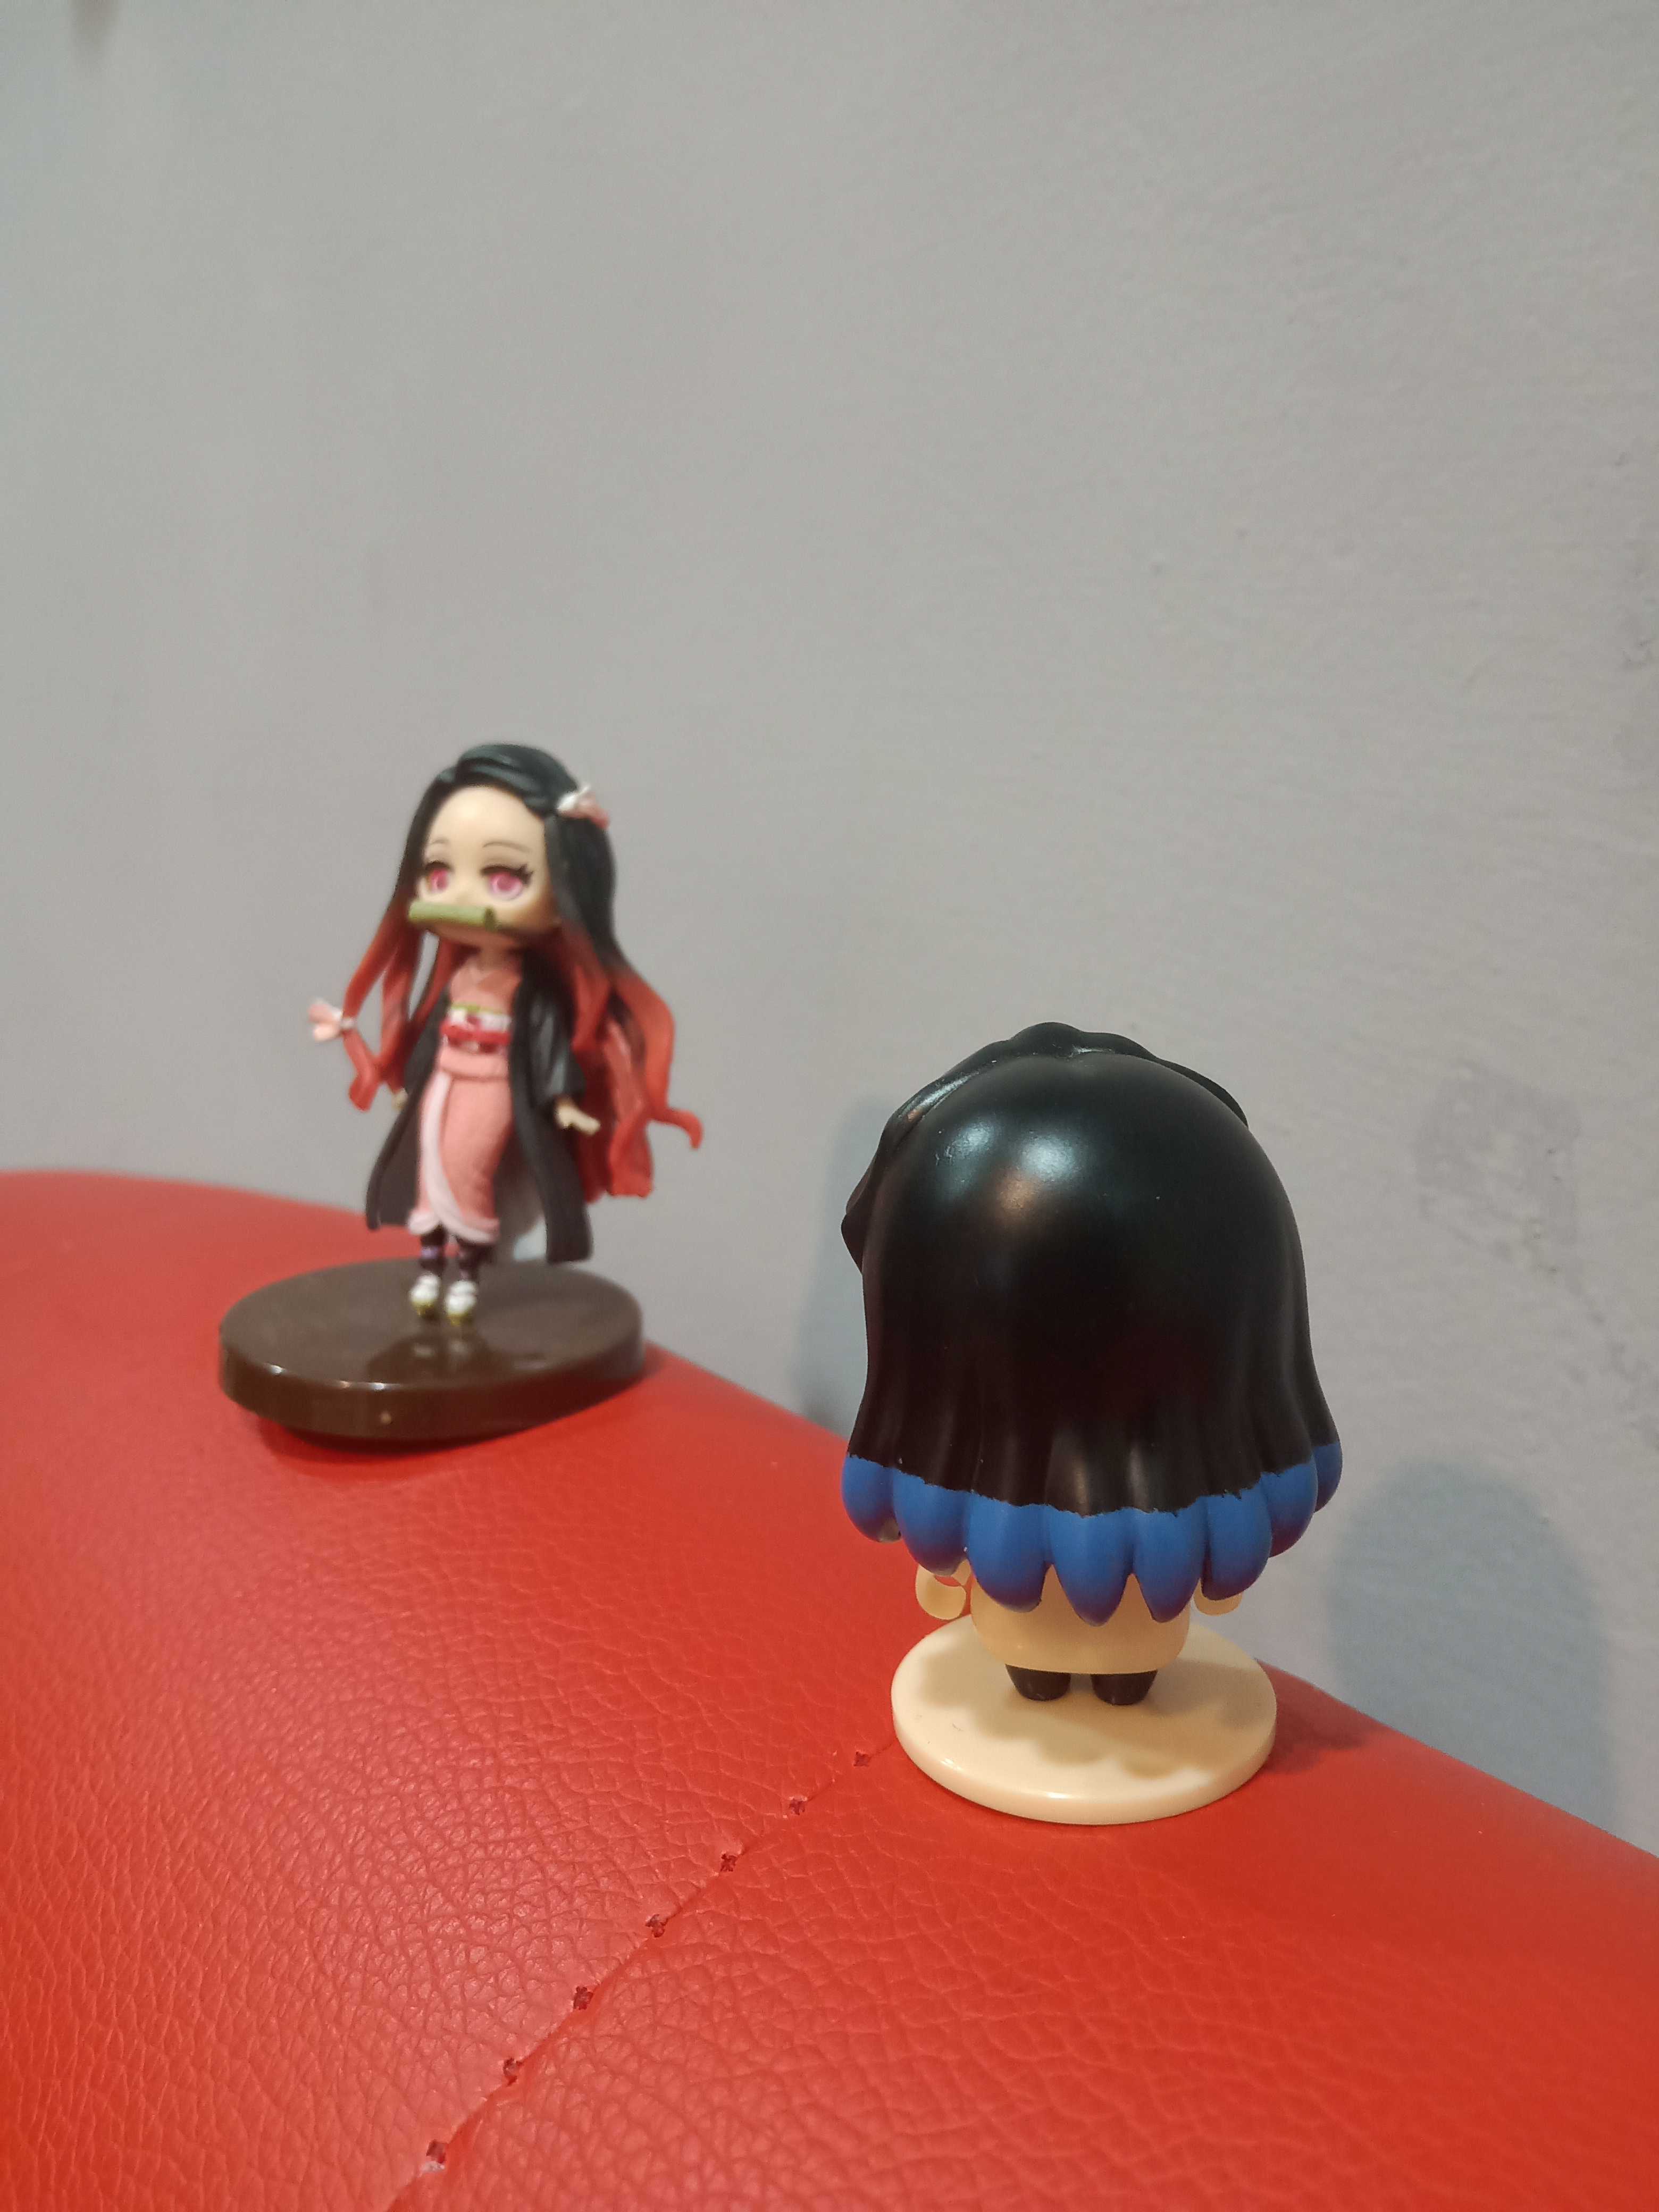Inosuke: (816, 1007, 1359, 1846)
Nezuko: (207, 733, 716, 1472)
